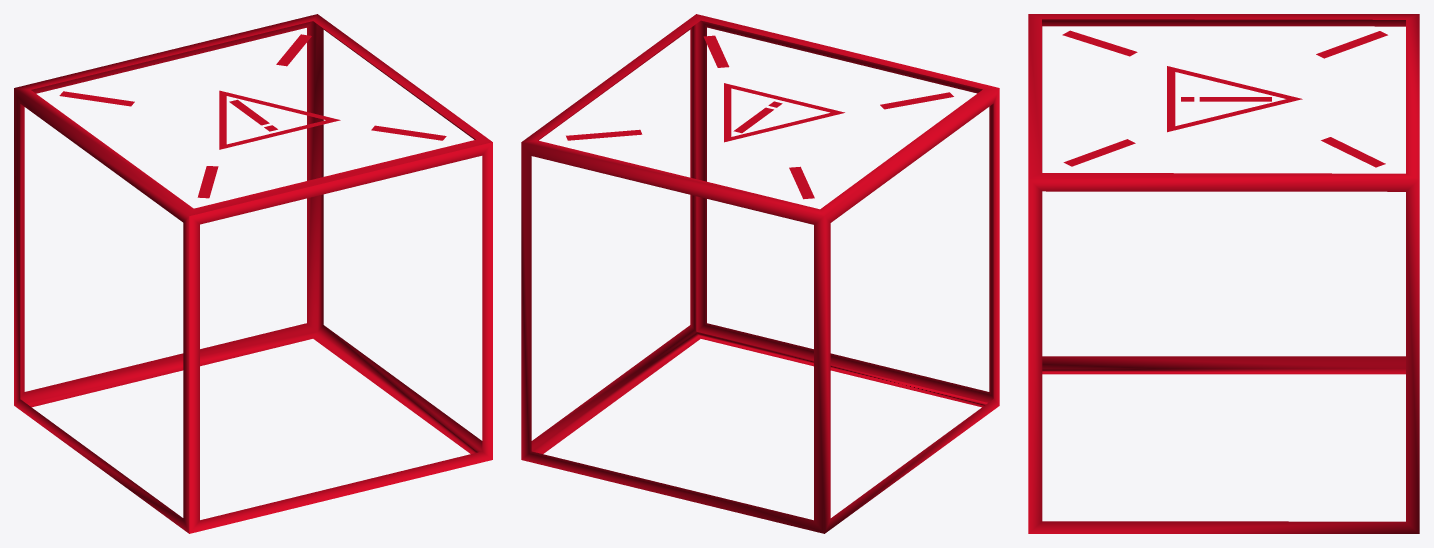
Rendered from RedDoor.fbx.
3 renders of one model, left to right at view 1: azimuth 30°, elevation 25°; view 2: azimuth 150°, elevation 25°; view 3: azimuth 270°, elevation 25°, orthographic. The views are drawn at different scales.
Visible parts, largest first — view 1: 立方体, 圆环; view 2: 立方体, 圆环; view 3: 立方体, 圆环, 平面.002, 平面.005, 平面.003, 平面.004.
Boxes of the visible parts, x1=… form: 立方体: x1=14, y1=14, x2=492, y2=533; 圆环: x1=219, y1=90, x2=340, y2=149; 立方体: x1=521, y1=14, x2=999, y2=533; 圆环: x1=724, y1=83, x2=844, y2=142; 立方体: x1=1028, y1=14, x2=1419, y2=533; 圆环: x1=1167, y1=66, x2=1302, y2=132; 平面.002: x1=1062, y1=30, x2=1137, y2=56; 平面.005: x1=1316, y1=31, x2=1387, y2=58; 平面.003: x1=1063, y1=139, x2=1135, y2=166; 平面.004: x1=1321, y1=137, x2=1385, y2=167.
Size of the model in its own units: 200 by 200 by 200.
